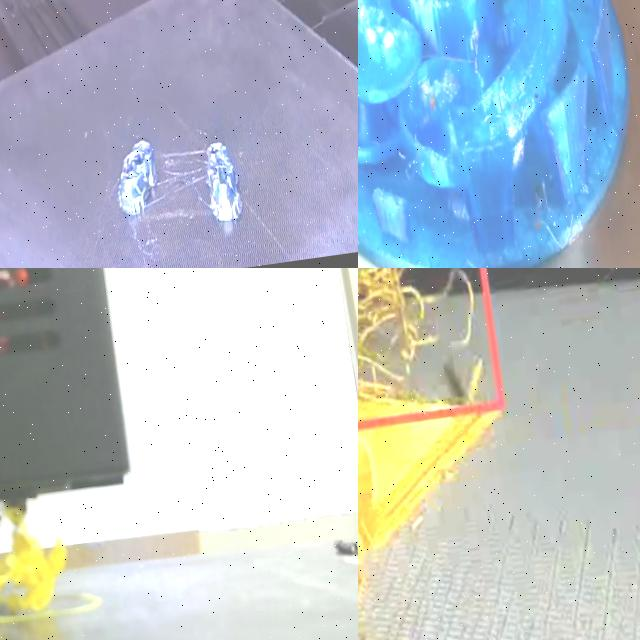spaghetti: (358, 268, 491, 426), (0, 487, 81, 627), (532, 199, 604, 268), (412, 66, 472, 124), (474, 68, 518, 138), (442, 242, 527, 268), (388, 141, 431, 191)
